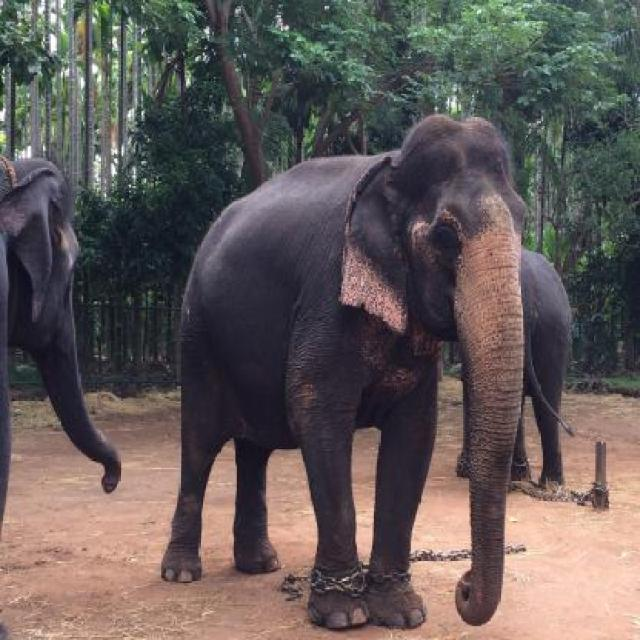Elephant: (161, 106, 530, 640), (0, 134, 137, 637)
